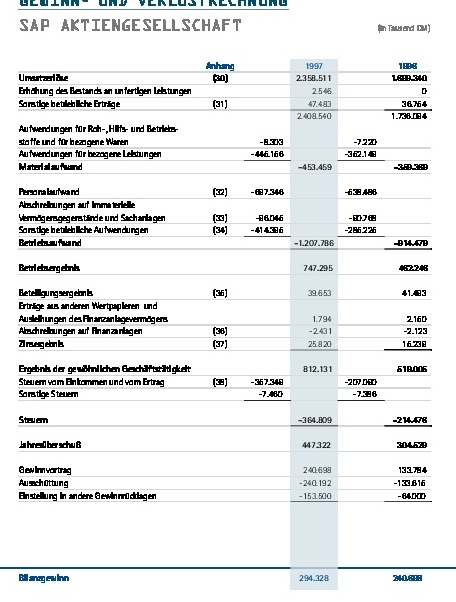table: (0, 0, 456, 602)
